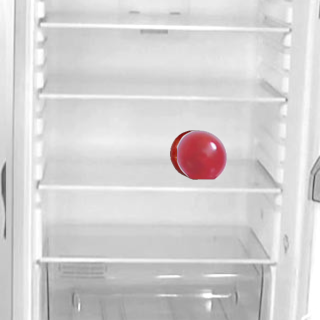Apple Braeburn: (169, 129, 219, 179)
Redcurrant: (176, 129, 226, 179)
